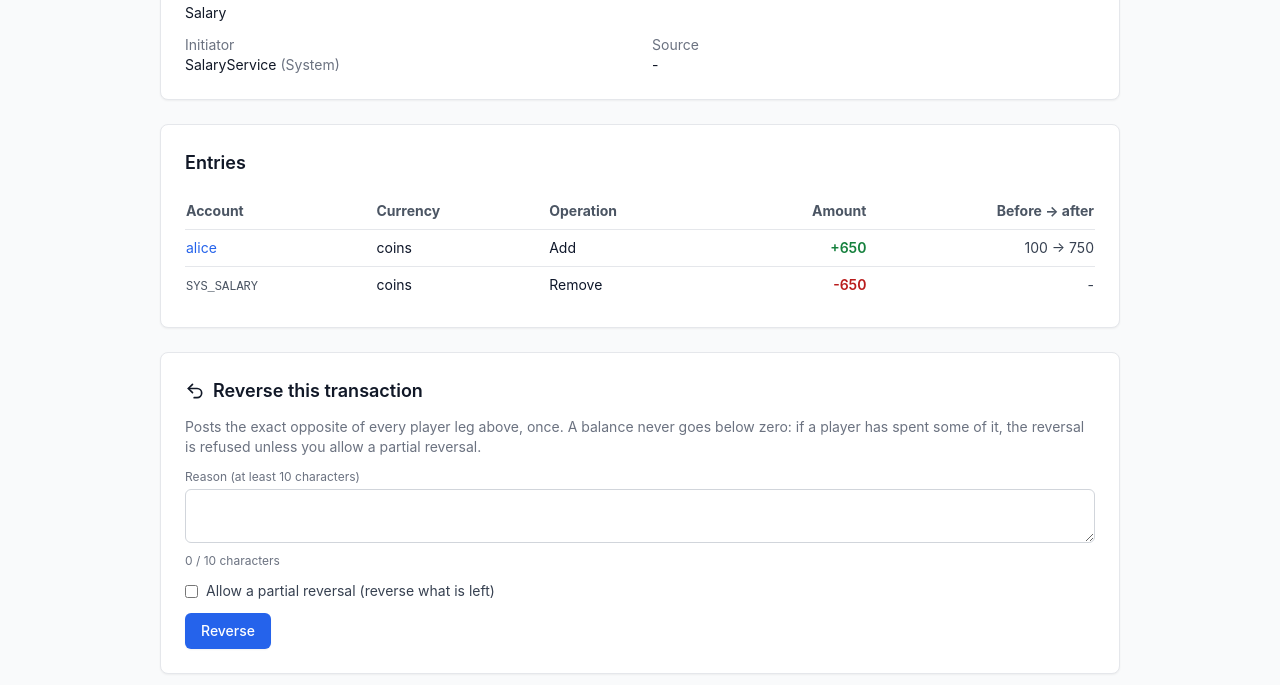
it: TransactionDetailPage › shows every leg, and reverses with a note of at least 10 characters
The image size is (1280, 685).
(page scrolled)
Expected: the text "SYS_SALARY" is shown, [186, 280, 258, 294]
Expected: the text "100 → 750" is shown, [882, 230, 1095, 266]
Type "Paid twice by a bug" into the text box labelled "Reason (at least 10 characters)". click: [640, 516]
box: [185, 489, 1095, 543]
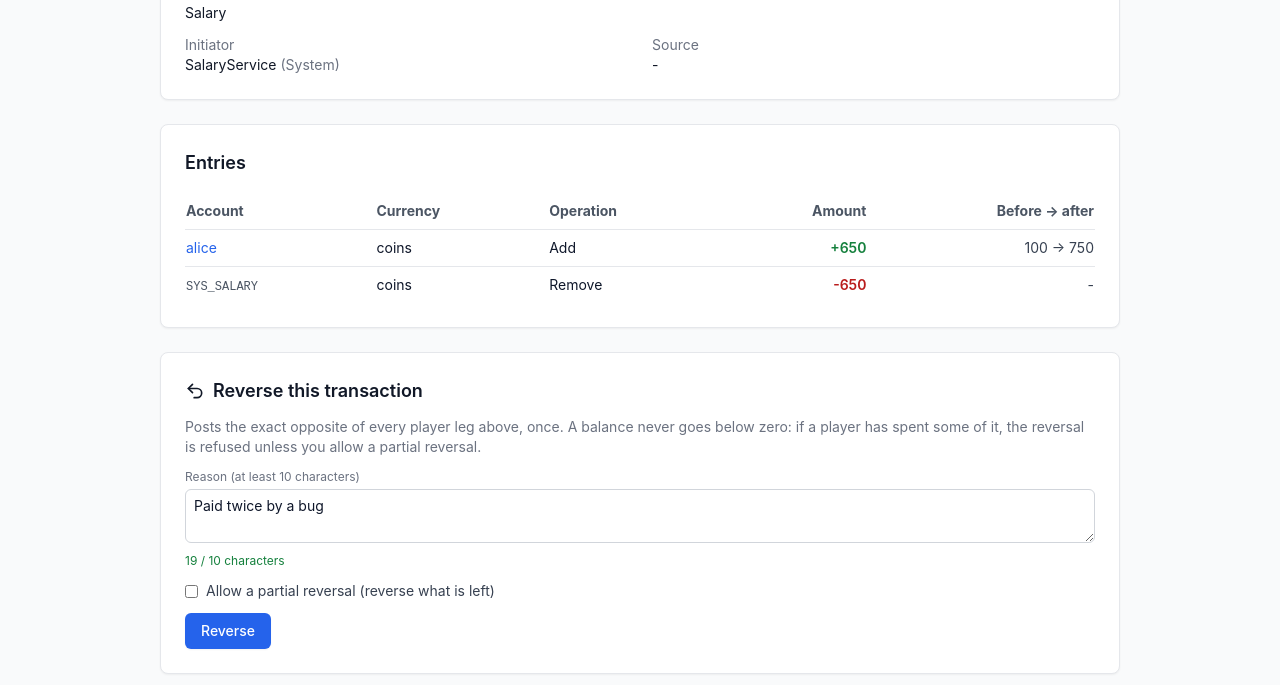
Click the checkbox labelled "Allow a partial reversal (reverse what is left)". click: [192, 591]
box: [185, 584, 198, 598]
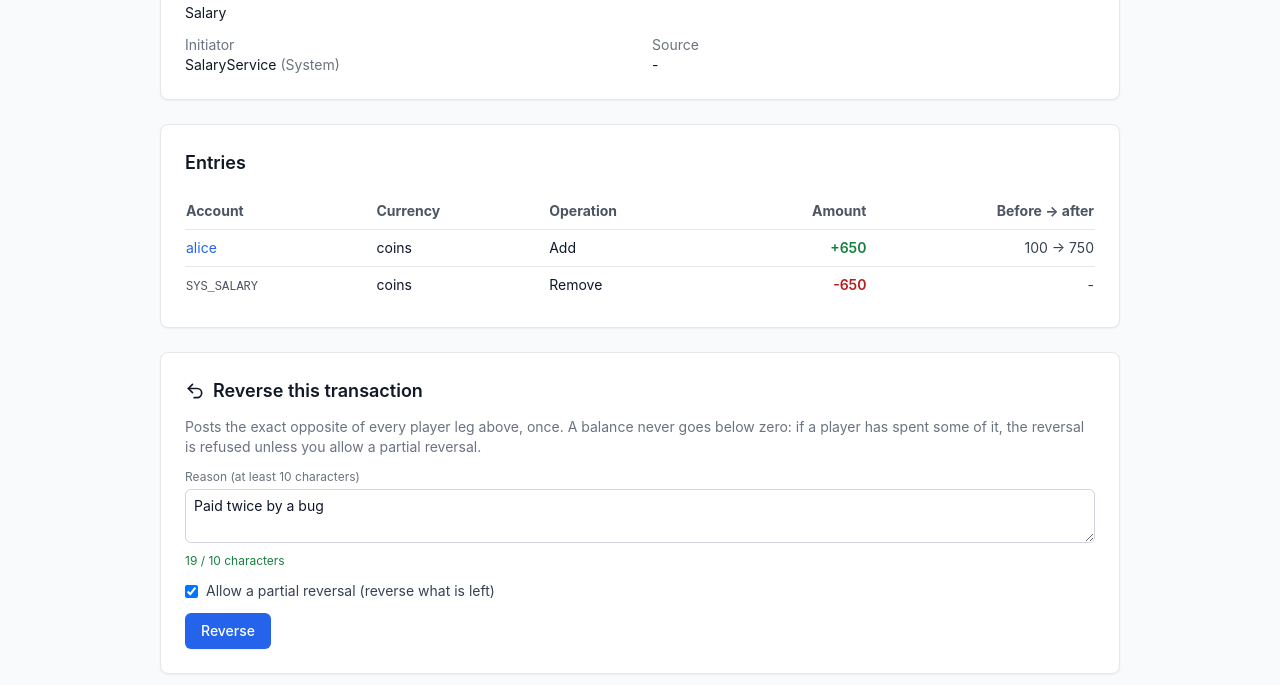
Click the button "Reverse". click: [228, 631]
box: [185, 613, 271, 649]
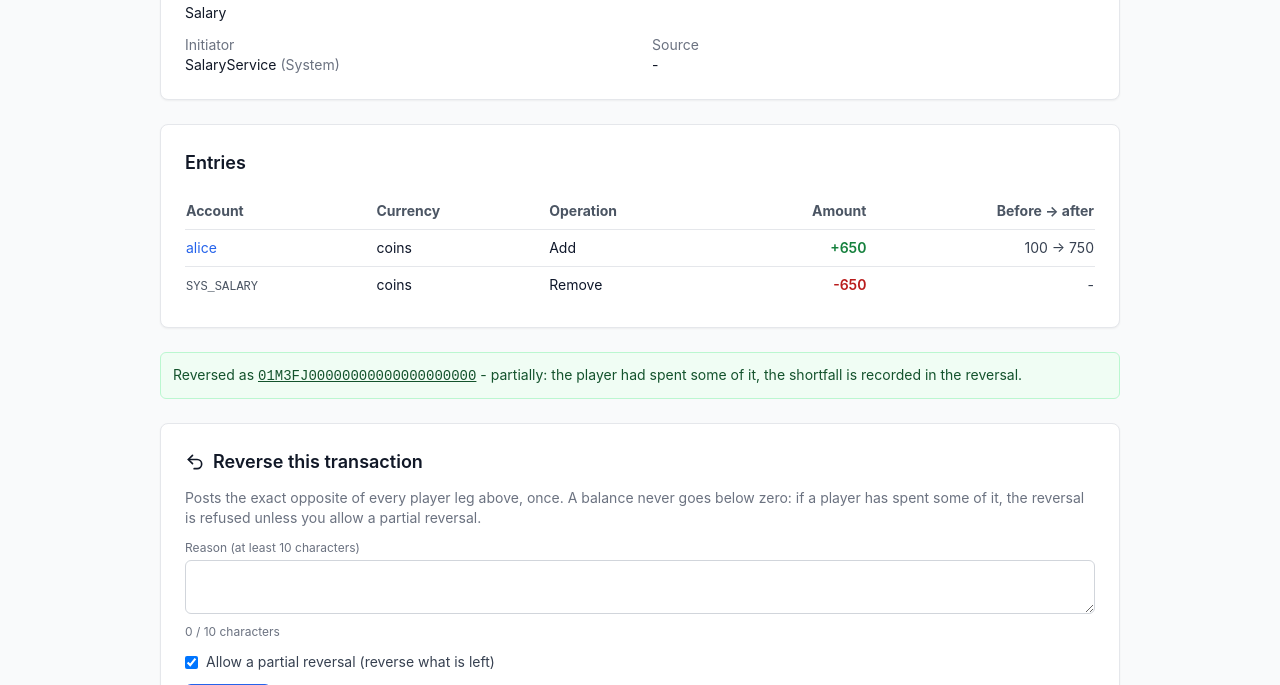
Expected: the link "01M3FJ00000000000000000000" is shown, [258, 368, 476, 384]
Expected: the text "partially" is shown, [476, 366, 1022, 383]
